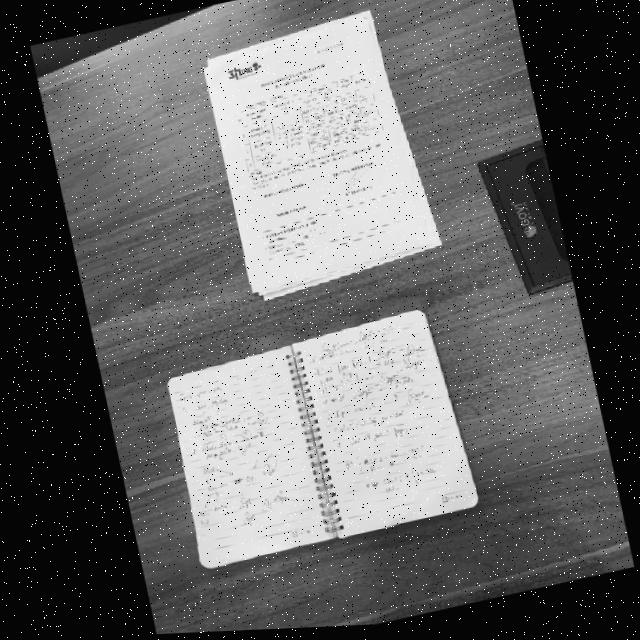document: (165, 307, 480, 569), (201, 9, 431, 293)
